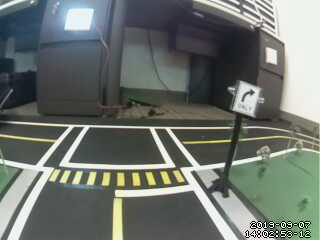Right_only_sign: (226, 78, 260, 123)
